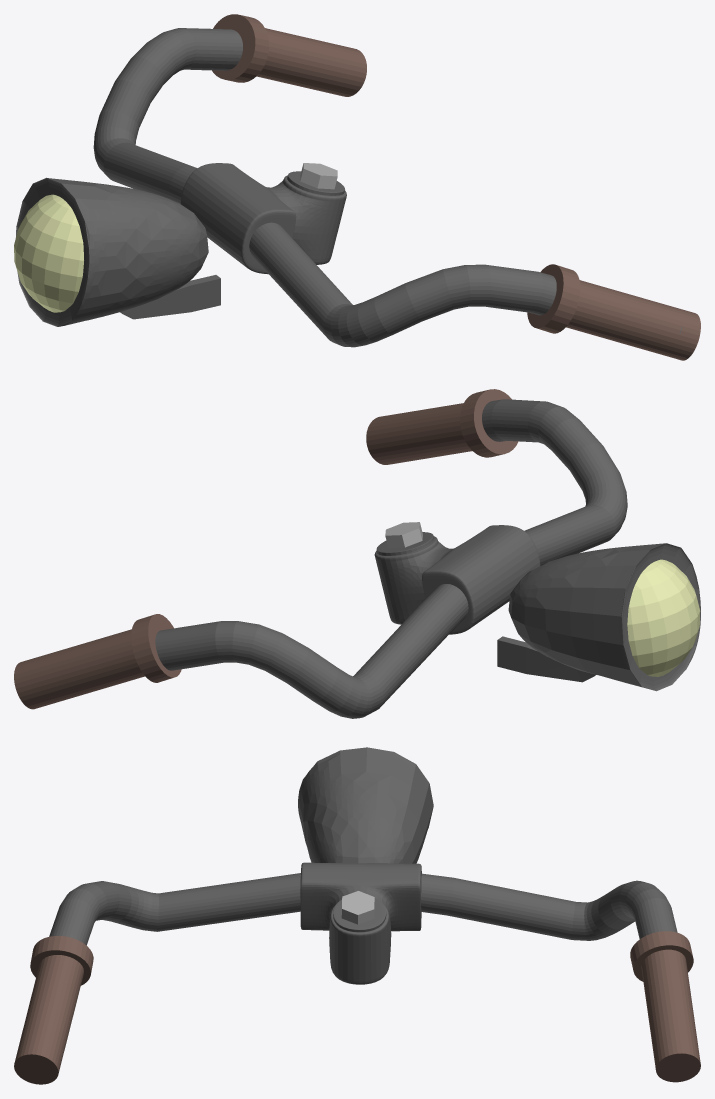
Rendered from stuur.dae.
3 views of the same model, one above another, from view 1: azimuth 30°, elevation 25°; view 2: azimuth 150°, elevation 25°; view 3: azimuth 270°, elevation 25° (orthographic). The views are drawn at different scales.
Parts seen in each view (by area): view 1: BICYCLE_manubrio, BICYCLE_faroDelante_HyperNURBS_53_Cubo_11, BICYCLE_piezaManubrio_1, BICYCLE_faroDelante_HyperNURBS4_Esfera, Cylinder_001, Cylinder_002, BICYCLE_faroDelante_Cubo_1, Cylinder_003, Cylinder, BICYCLE_tornillo1; view 2: BICYCLE_manubrio, BICYCLE_faroDelante_HyperNURBS_53_Cubo_11, BICYCLE_piezaManubrio_1, BICYCLE_faroDelante_HyperNURBS4_Esfera, Cylinder_002, Cylinder_001, BICYCLE_faroDelante_Cubo_1, Cylinder, Cylinder_003, BICYCLE_tornillo1; view 3: BICYCLE_manubrio, BICYCLE_faroDelante_HyperNURBS_53_Cubo_11, BICYCLE_piezaManubrio_1, Cylinder_002, Cylinder_001, Cylinder, Cylinder_003, BICYCLE_tornillo1.
Boxes of the visible parts, x1,y1,x2,y2 form: BICYCLE_manubrio: [93, 28, 682, 347]; BICYCLE_faroDelante_HyperNURBS_53_Cubo_11: [16, 177, 208, 326]; BICYCLE_piezaManubrio_1: [180, 163, 346, 274]; BICYCLE_faroDelante_HyperNURBS4_Esfera: [14, 194, 83, 312]; Cylinder_001: [566, 280, 700, 360]; Cylinder_002: [256, 28, 366, 96]; BICYCLE_faroDelante_Cubo_1: [120, 275, 220, 319]; Cylinder_003: [212, 14, 268, 82]; Cylinder: [527, 264, 580, 333]; BICYCLE_tornillo1: [300, 163, 337, 189]; BICYCLE_manubrio: [155, 399, 627, 718]; BICYCLE_faroDelante_HyperNURBS_53_Cubo_11: [508, 543, 700, 691]; BICYCLE_piezaManubrio_1: [374, 525, 540, 634]; BICYCLE_faroDelante_HyperNURBS4_Esfera: [627, 559, 700, 676]; Cylinder_002: [14, 629, 144, 709]; Cylinder_001: [366, 403, 471, 464]; BICYCLE_faroDelante_Cubo_1: [497, 636, 596, 682]; Cylinder: [460, 389, 518, 457]; Cylinder_003: [131, 614, 181, 682]; BICYCLE_tornillo1: [385, 522, 422, 547]; BICYCLE_manubrio: [19, 873, 677, 1045]; BICYCLE_faroDelante_HyperNURBS_53_Cubo_11: [298, 747, 433, 863]; BICYCLE_piezaManubrio_1: [300, 862, 421, 984]; Cylinder_002: [641, 949, 700, 1082]; Cylinder_001: [14, 955, 83, 1084]; Cylinder: [30, 936, 93, 985]; Cylinder_003: [630, 931, 693, 981]; BICYCLE_tornillo1: [341, 891, 374, 924].
Bounding box in the file's own units: 0.6936 × 0.8838 × 0.2034.
